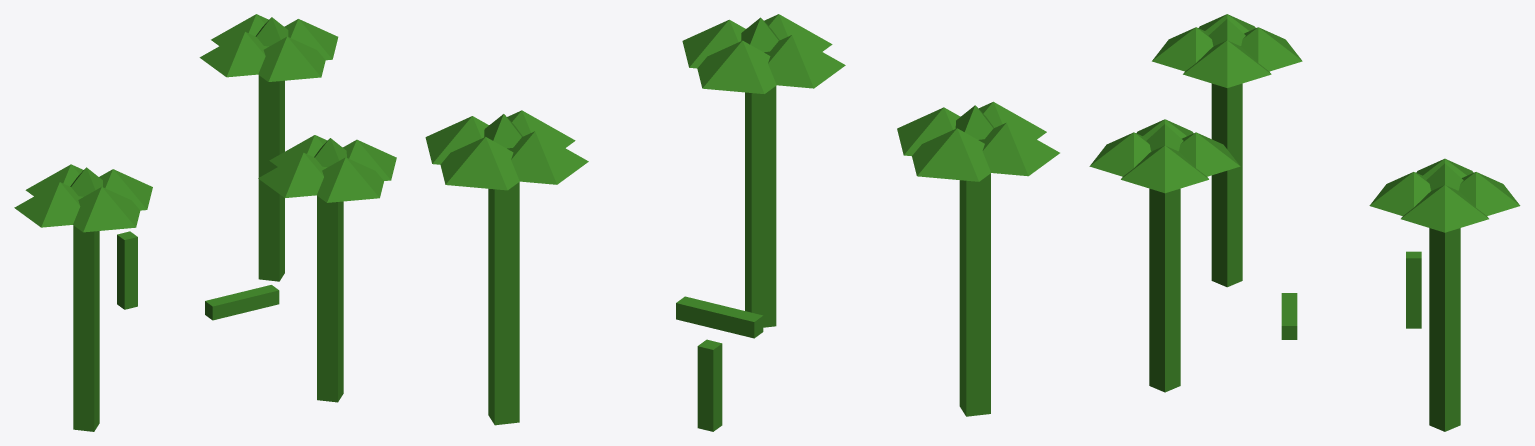
File: flowers.obj
3 views of the same model, side by side, from view 1: azimuth 30°, elevation 25°; view 2: azimuth 150°, elevation 25°; view 3: azimuth 270°, elevation 25° (orthographic). The views are drawn at different scales.
Size of the model in its own units: 0.1571 by 0.093 by 0.1386.
